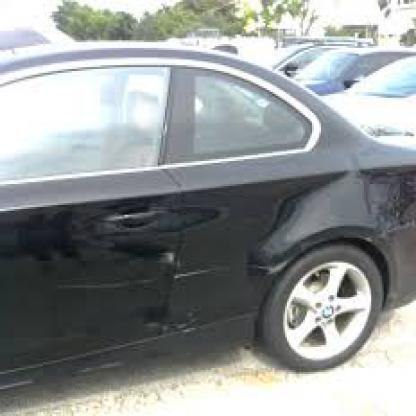dent: (258, 188, 307, 236)
